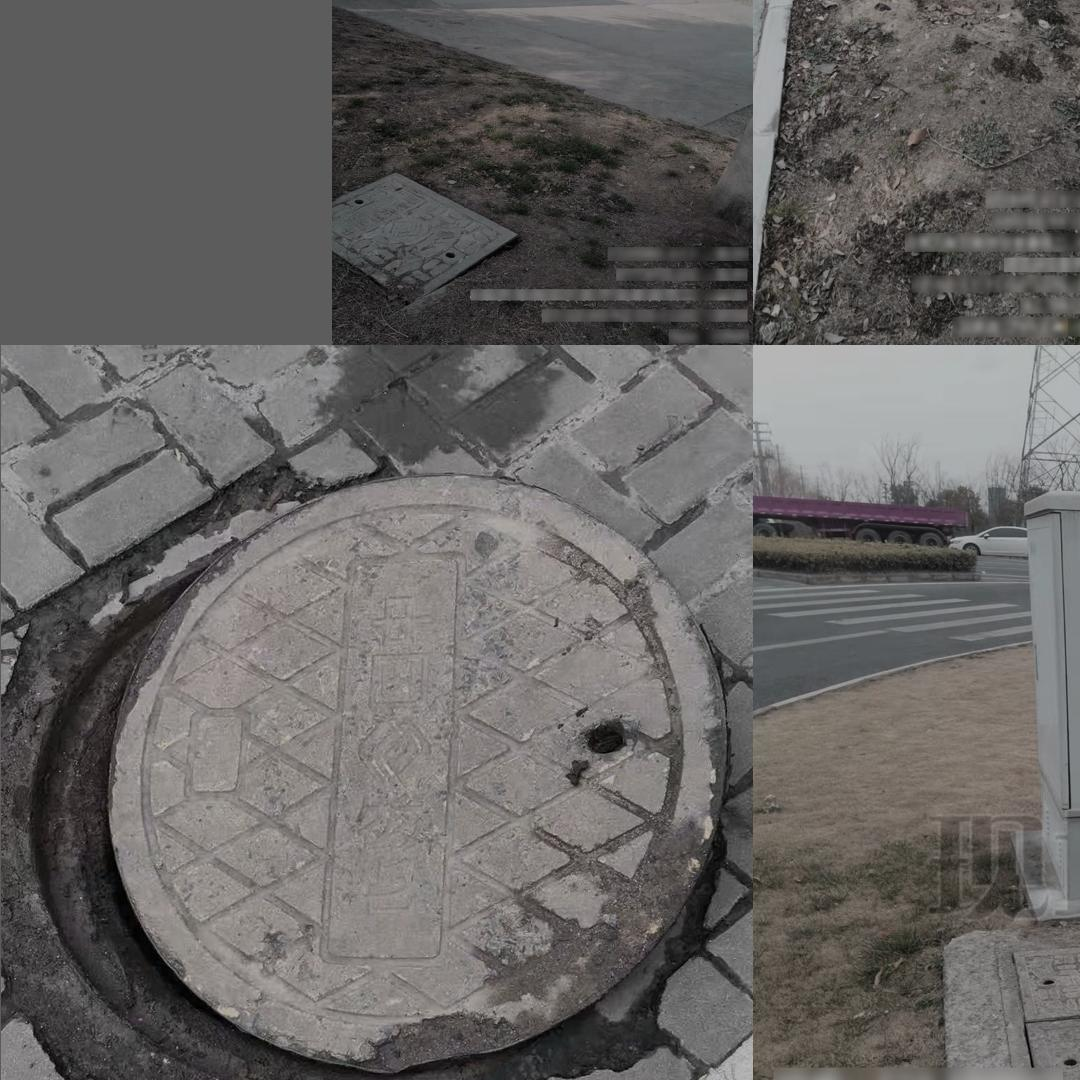uncovered: (1, 469, 724, 1080), (332, 172, 522, 303), (996, 924, 1080, 1080)
